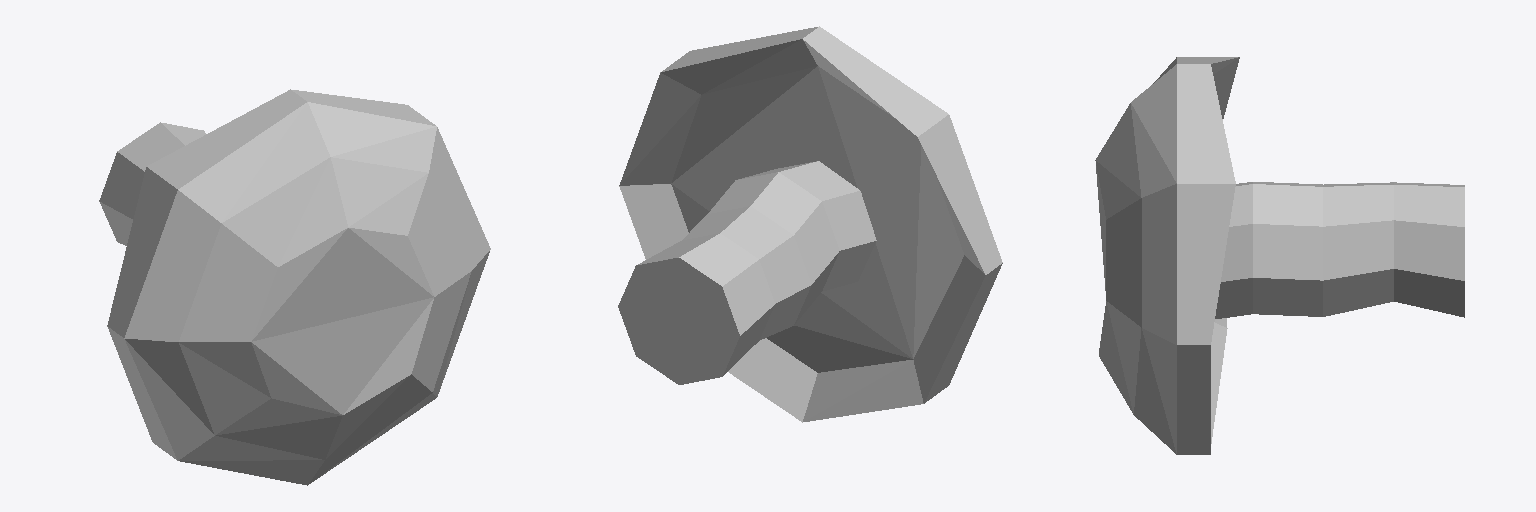
The model's file is Mushroom.obj.
3 renders of one model, left to right at view 1: azimuth 30°, elevation 25°; view 2: azimuth 150°, elevation 25°; view 3: azimuth 270°, elevation 25°, orthographic.
Parts seen in each view (by area): view 1: SM_Mushroom_01; view 2: SM_Mushroom_01; view 3: SM_Mushroom_01.
Part boxes in pixels (bbox=[...]): SM_Mushroom_01: bbox=[99, 89, 490, 485]; SM_Mushroom_01: bbox=[618, 26, 1002, 422]; SM_Mushroom_01: bbox=[1095, 57, 1464, 454].
Bounding box in the file's own units: 15 × 15 × 13.08.